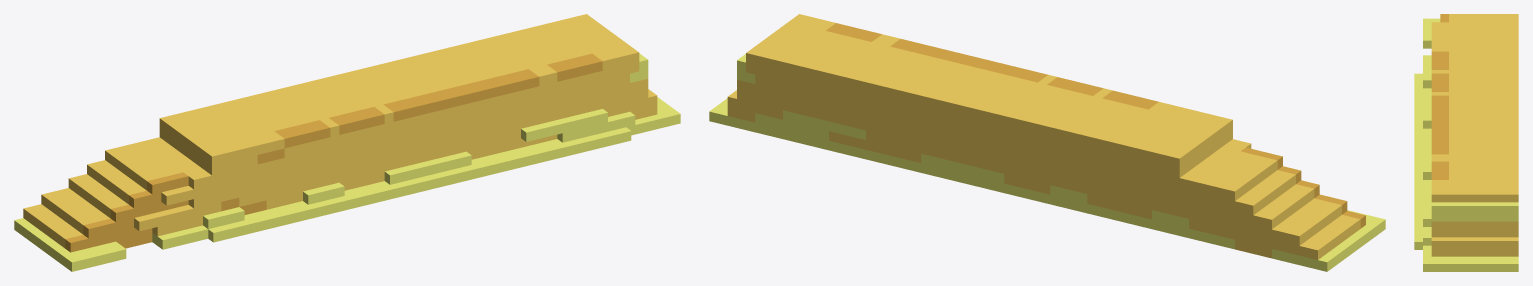
Rendered from shanti6.obj.
3 renders of one model, left to right at view 1: azimuth 30°, elevation 25°; view 2: azimuth 150°, elevation 25°; view 3: azimuth 270°, elevation 25°, orthographic. The views are drawn at different scales.
Size of the model in its own units: 67 by 8 by 12.
Materials: 1 (1 with a texture image).
